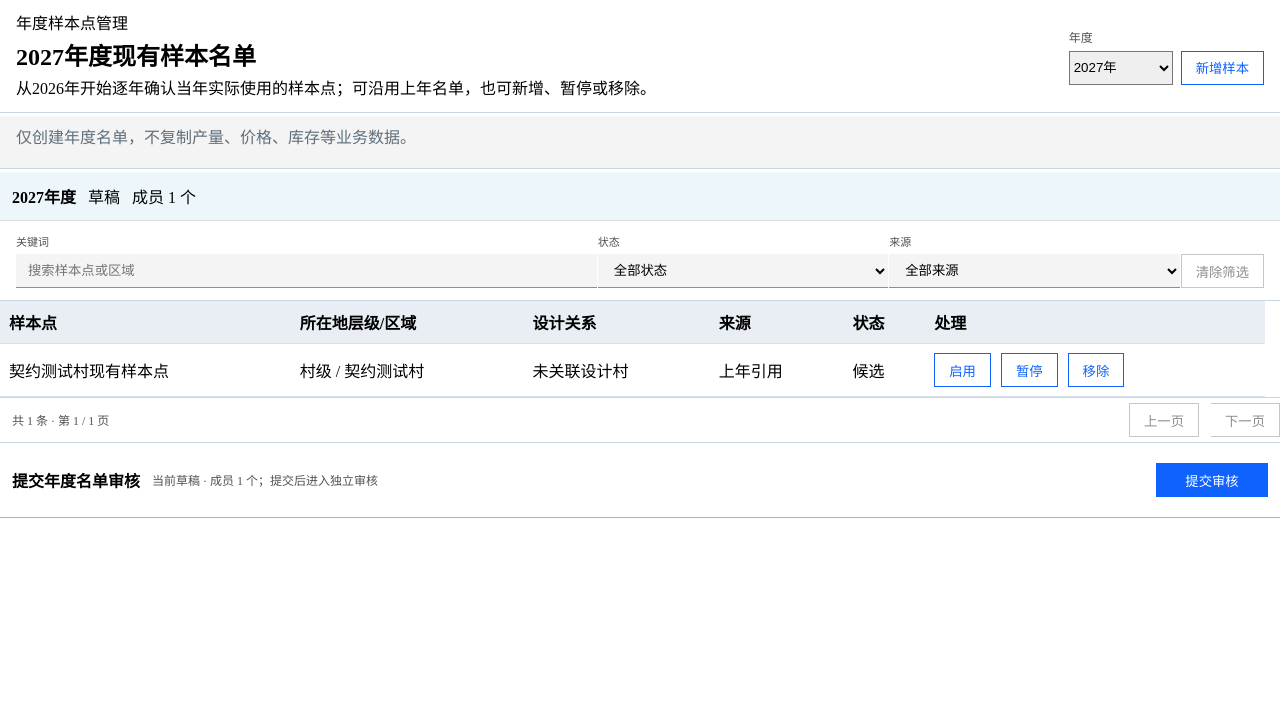
Test: AnnualSampleNetworkPanel › refreshes the comparison relation after adding an exact member
This screenshot has width=1280, height=710.
Expected: the text "契约测试村现有样本点" is shown, [0,344,291,396]
Click the button "新增样本" at (1222, 68), box [1181,50,1264,84]
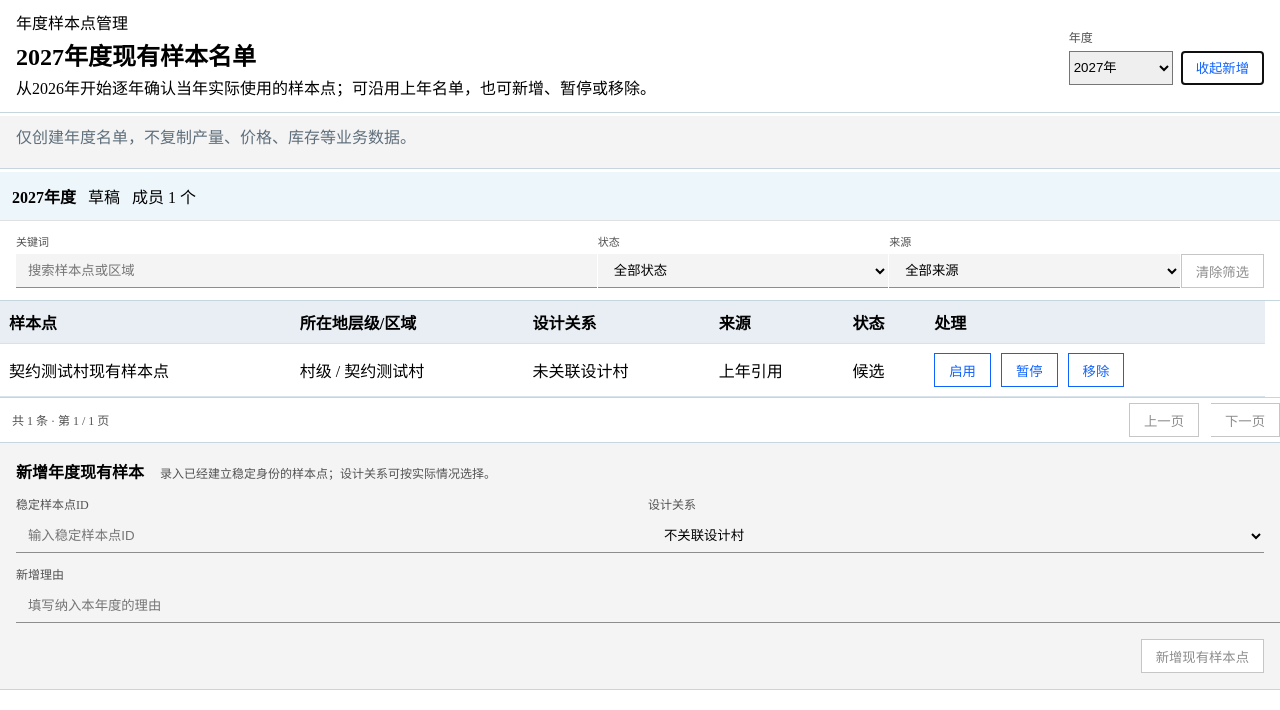
Type "94000000-0000-0000-0000-000000000099" into the field labelled "稳定样本点ID" at (336, 536), box [16,518,656,553]
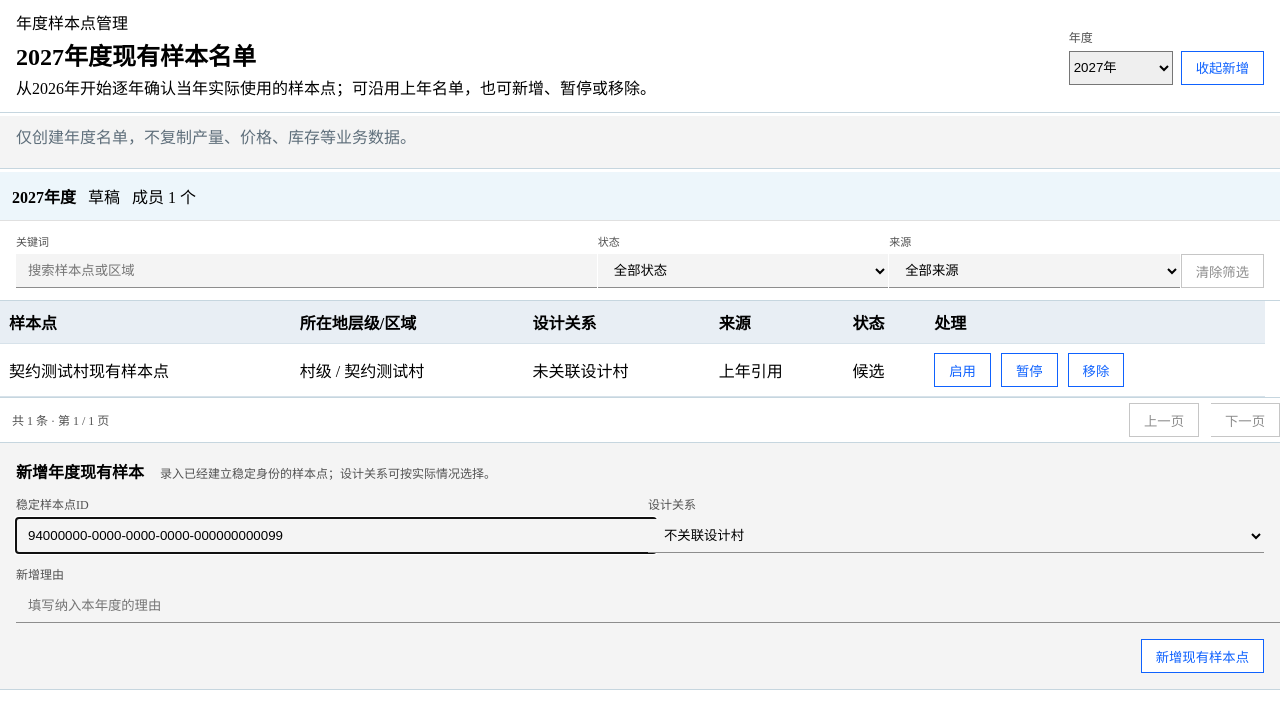
Select "精确对应" in the dropdown labelled "设计关系" at (956, 536), box [648,518,1264,553]
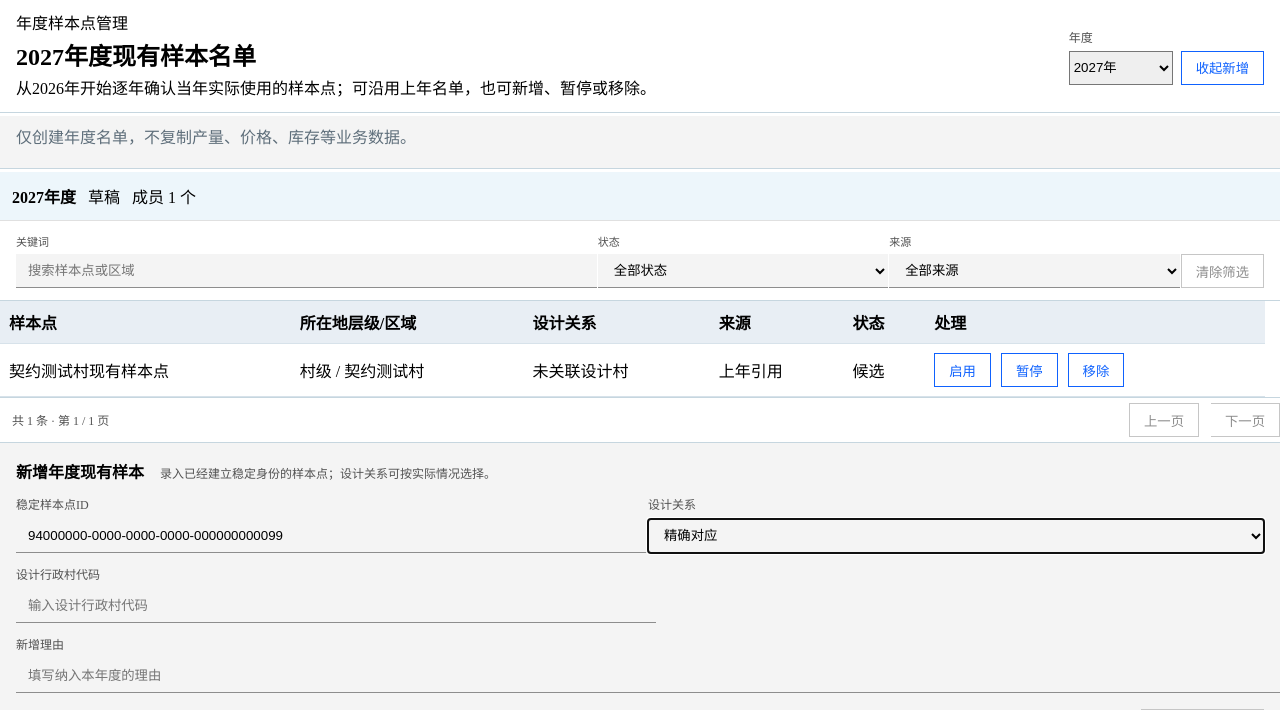
Type "230202997001" into the field labelled "设计行政村代码" at (336, 606), box [16,588,656,623]
(page scrolled)
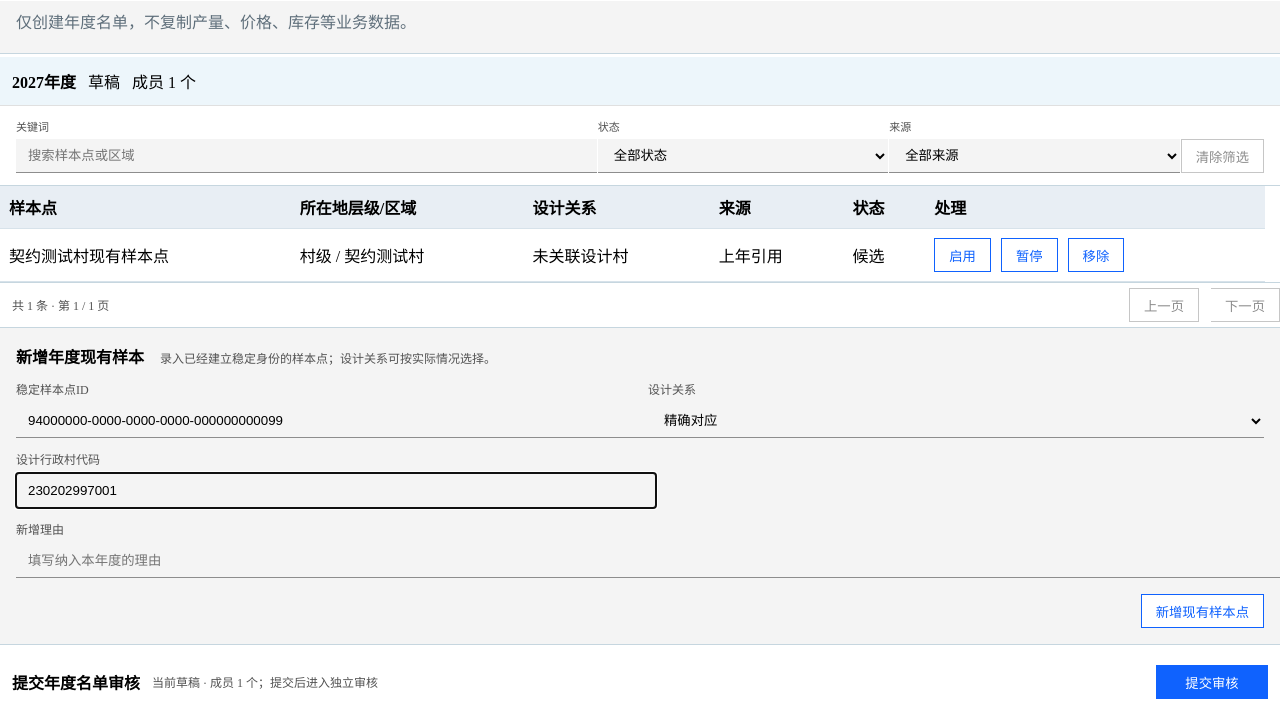
Click the button "新增现有样本点" at (1202, 611), box [1141,594,1264,628]
(page scrolled)
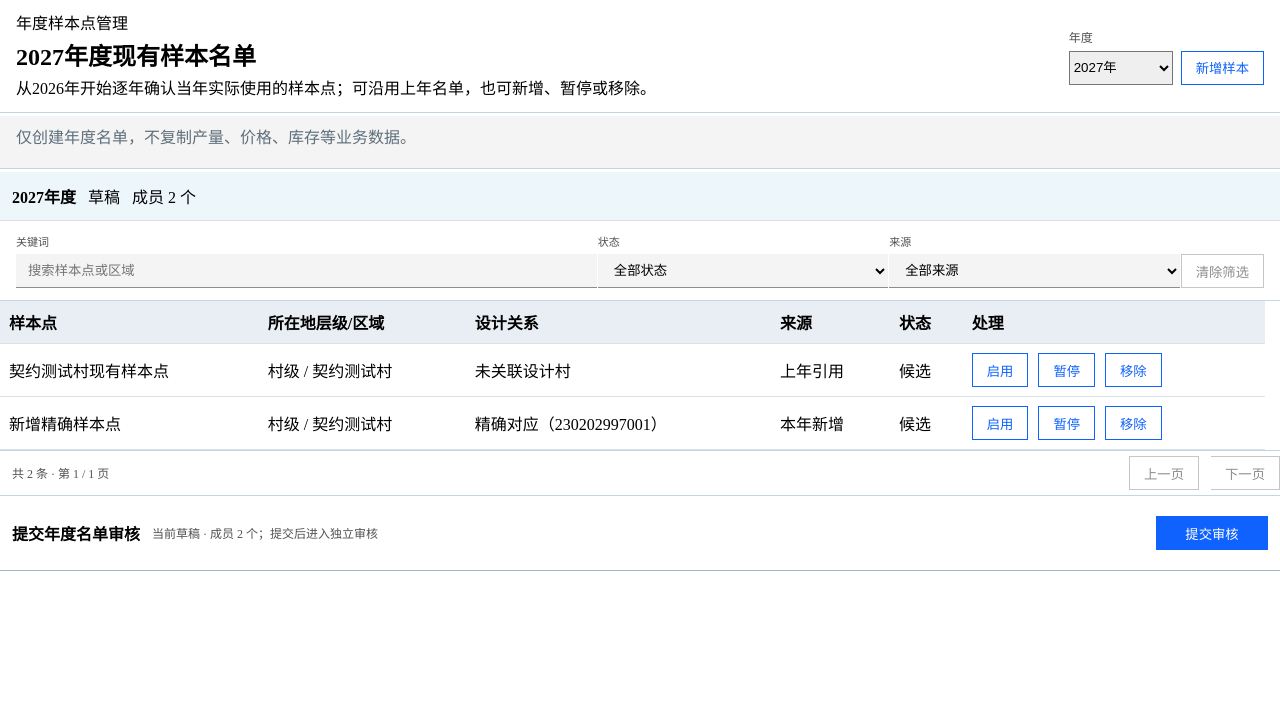
Expected: the text "精确对应（230202997001）" is shown, [466,396,771,450]
